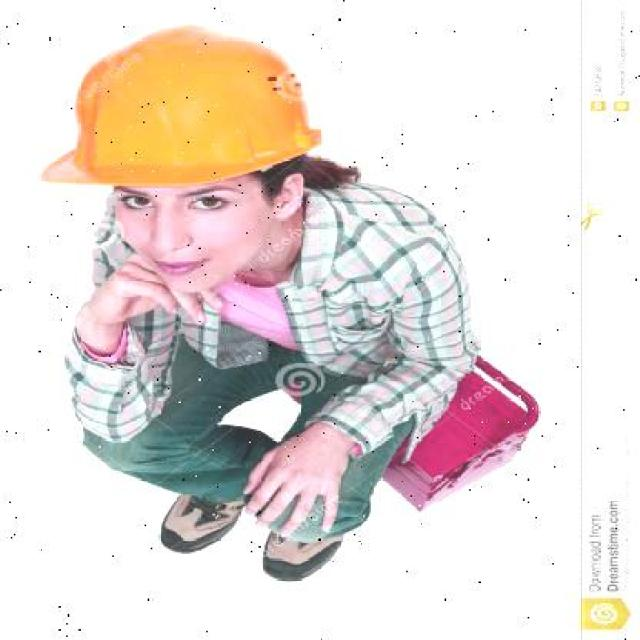shoes: (165, 478, 246, 558), (266, 530, 342, 584)
